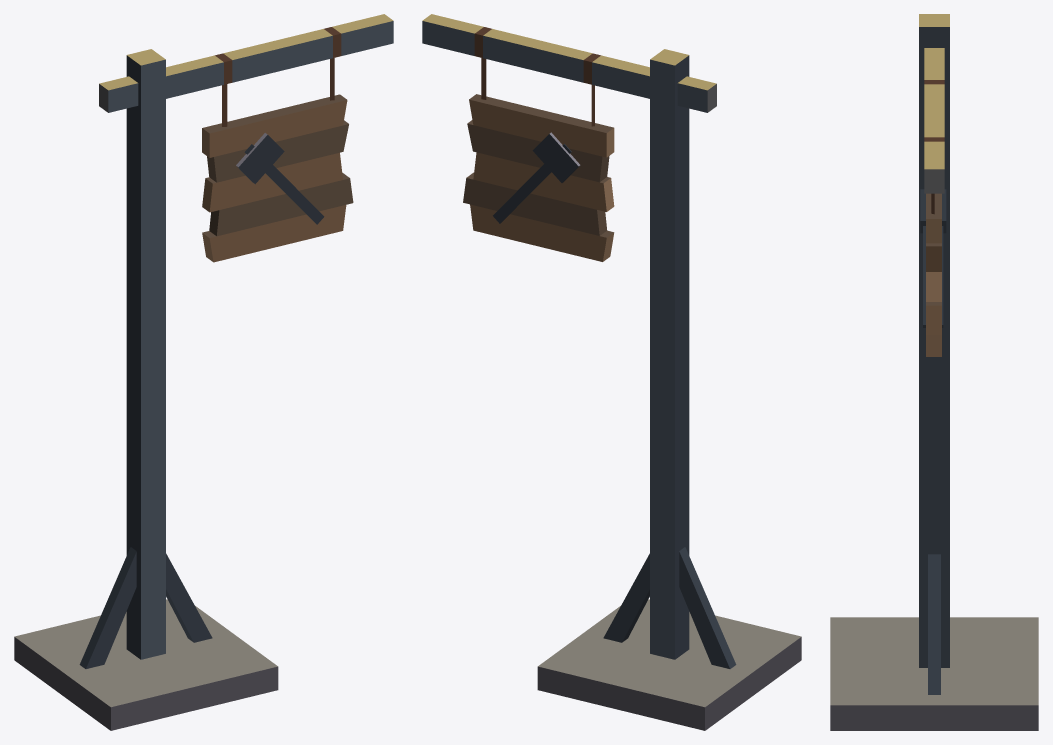
Rendered from TB_D_Prop_Sign_Store_BSmith_A.FBX.
The picture shows the model from 3 angles, left to right: view 1: azimuth 30°, elevation 25°; view 2: azimuth 150°, elevation 25°; view 3: azimuth 270°, elevation 25°; orthographic projection. The views are drawn at different scales.
Visible parts, largest first — view 1: TB_D_Prop_Sign_Store_BSmith_A; view 2: TB_D_Prop_Sign_Store_BSmith_A; view 3: TB_D_Prop_Sign_Store_BSmith_A.
Part boxes in pixels (<box>): TB_D_Prop_Sign_Store_BSmith_A: <box>14,14,393,730</box>; TB_D_Prop_Sign_Store_BSmith_A: <box>422,14,801,730</box>; TB_D_Prop_Sign_Store_BSmith_A: <box>830,14,1038,730</box>.
Bounding box in the file's own units: 1.57 × 2.84 × 0.8046.
